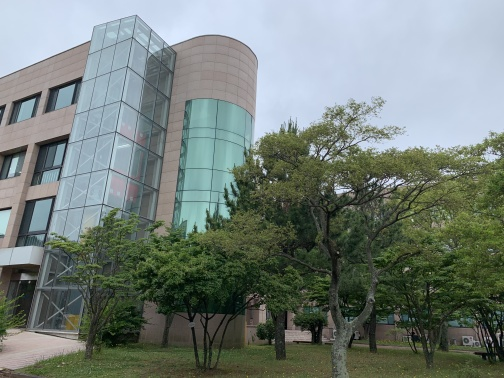Joint Experimental Labs: (6, 22, 268, 239)
